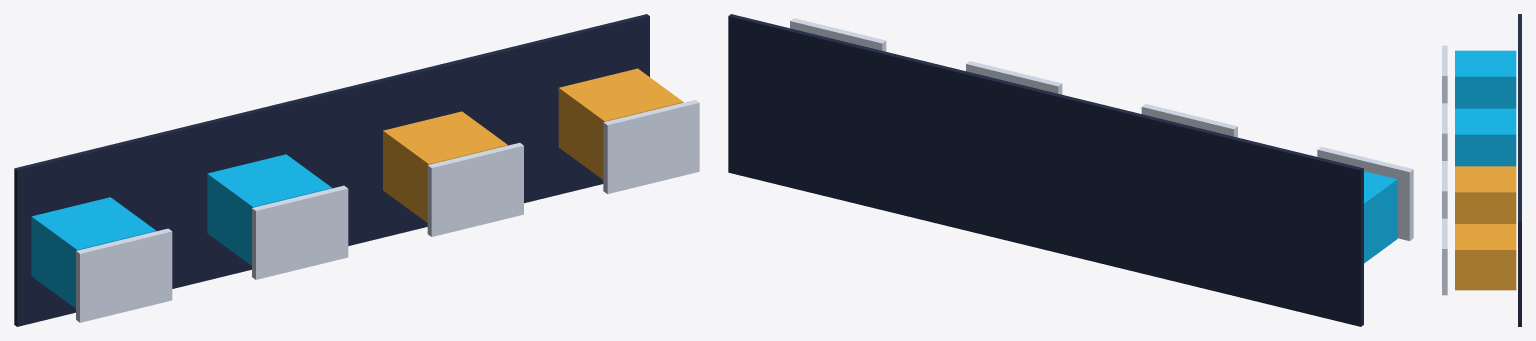
3 renders of one model, left to right at view 1: azimuth 30°, elevation 25°; view 2: azimuth 150°, elevation 25°; view 3: azimuth 270°, elevation 25°, orthographic. The views are drawn at different scales.
Visible parts, largest first — view 1: architecture-flow; view 2: architecture-flow; view 3: architecture-flow.
Part boxes in pixels (box(x1,y1,x2,y2)): architecture-flow: box(14, 14, 699, 326); architecture-flow: box(728, 14, 1413, 326); architecture-flow: box(1442, 14, 1521, 326).
Bounding box in the file's own units: 7.2 × 1.7 × 1.17.
